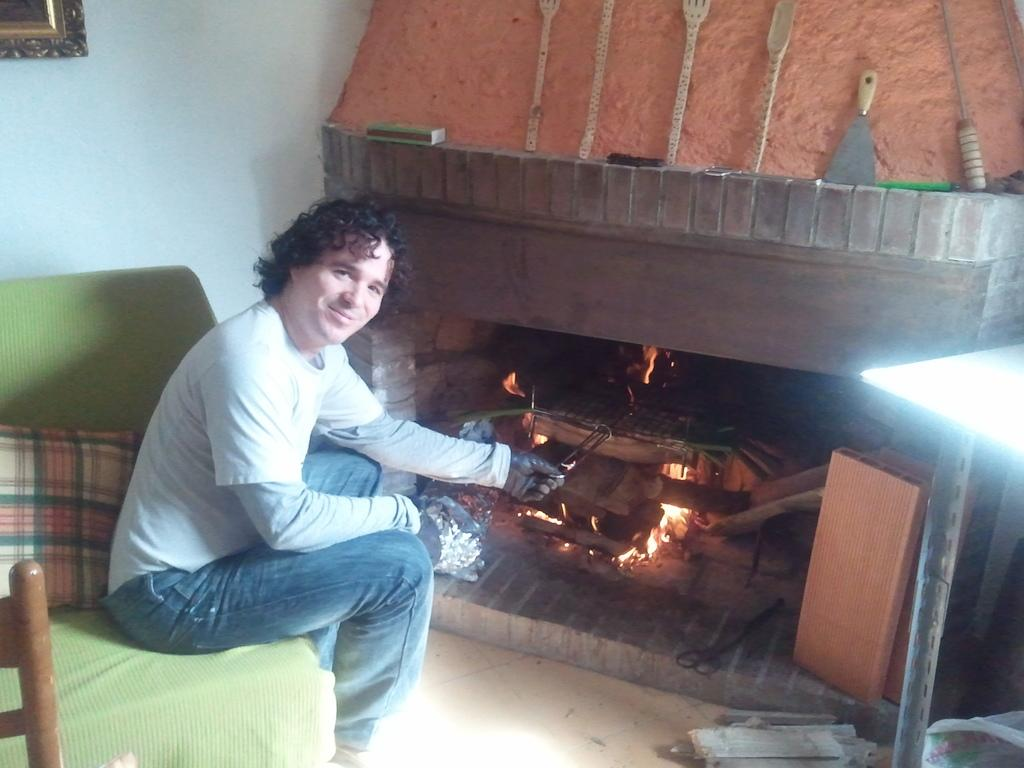Fire: (472, 340, 724, 579)
